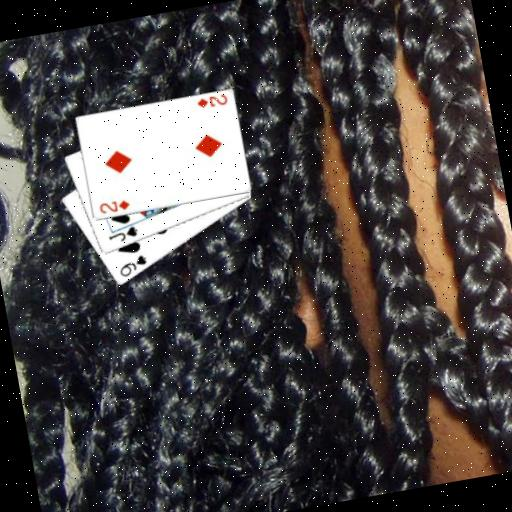2D: (95, 195, 131, 216), (193, 90, 229, 111)
9S: (114, 251, 150, 279)
JS: (104, 222, 140, 246)
